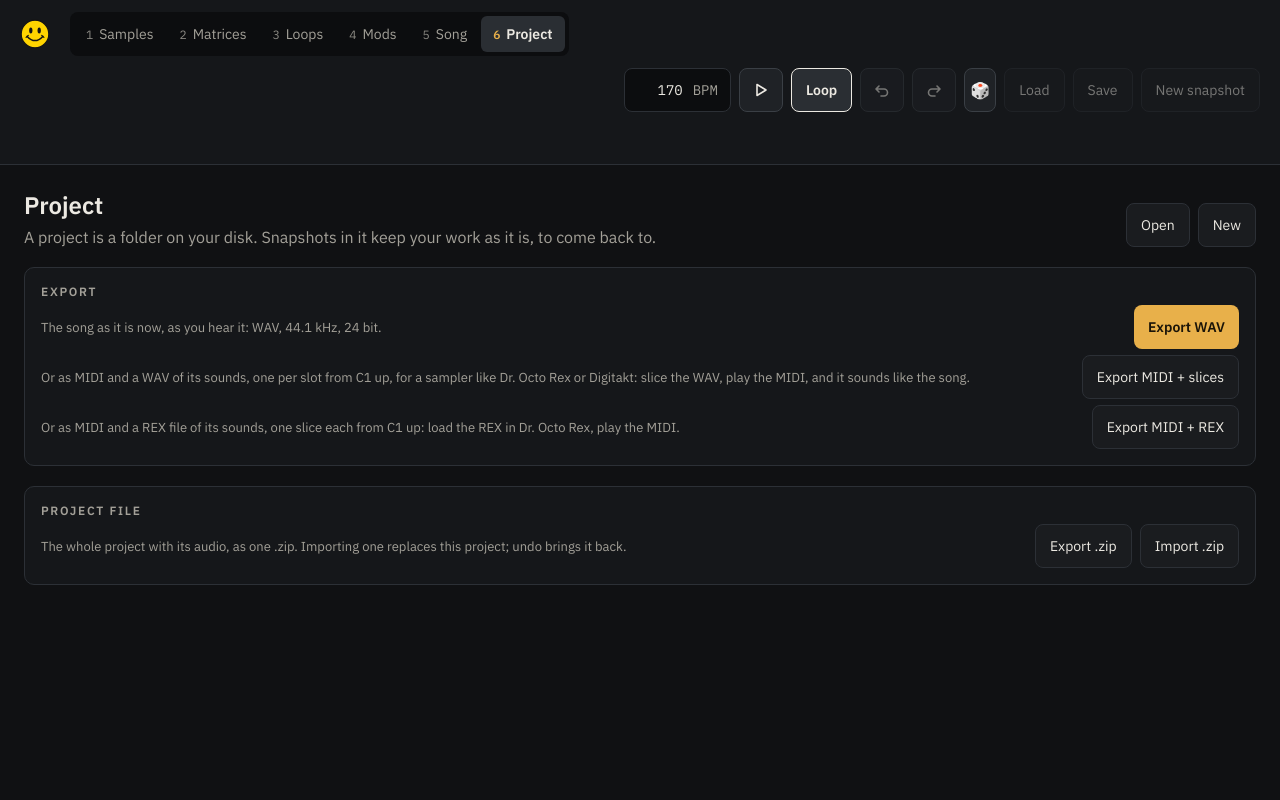
Test: Project › Open loads the active snapshot of a folder that has a project
This screenshot has width=1280, height=800.
Click the button "Open": (1158, 225) [1126,203,1190,247]
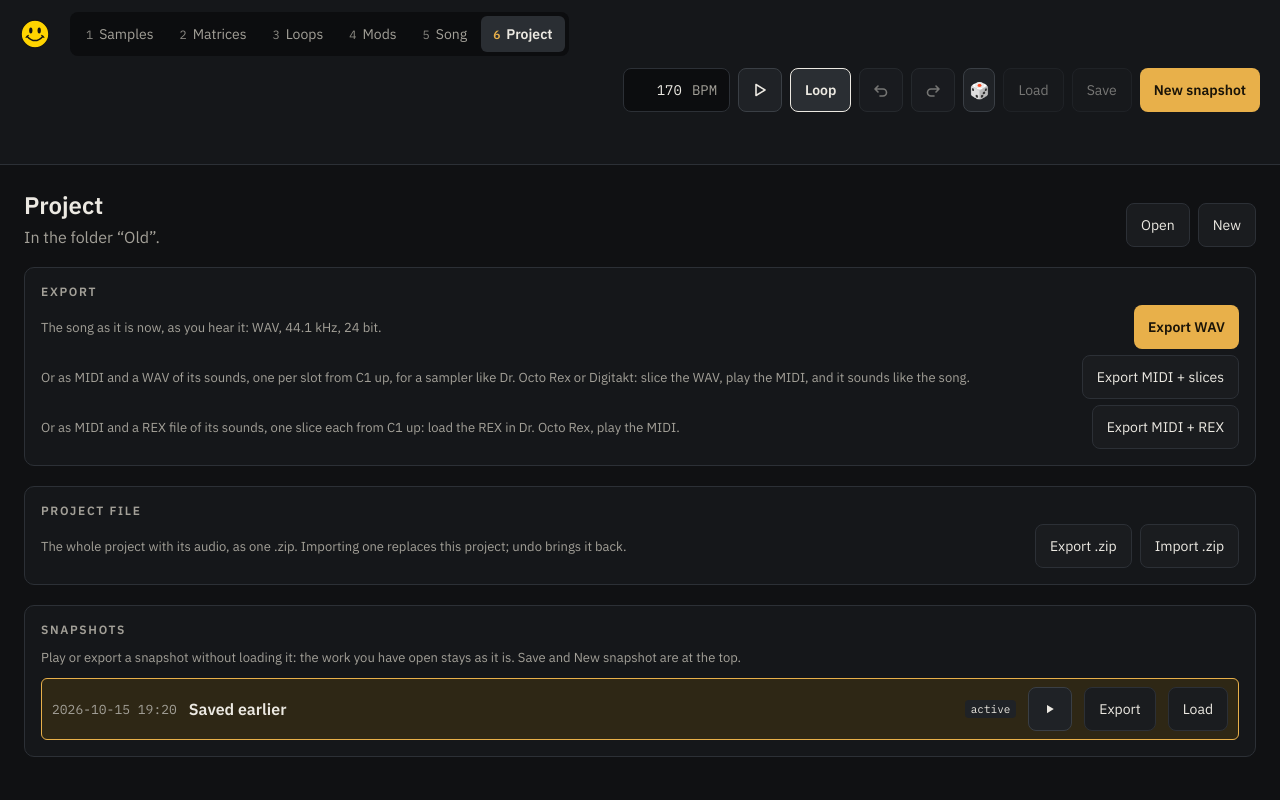
Now the text "Saved earlier" is shown, box [189,699,286,719]
